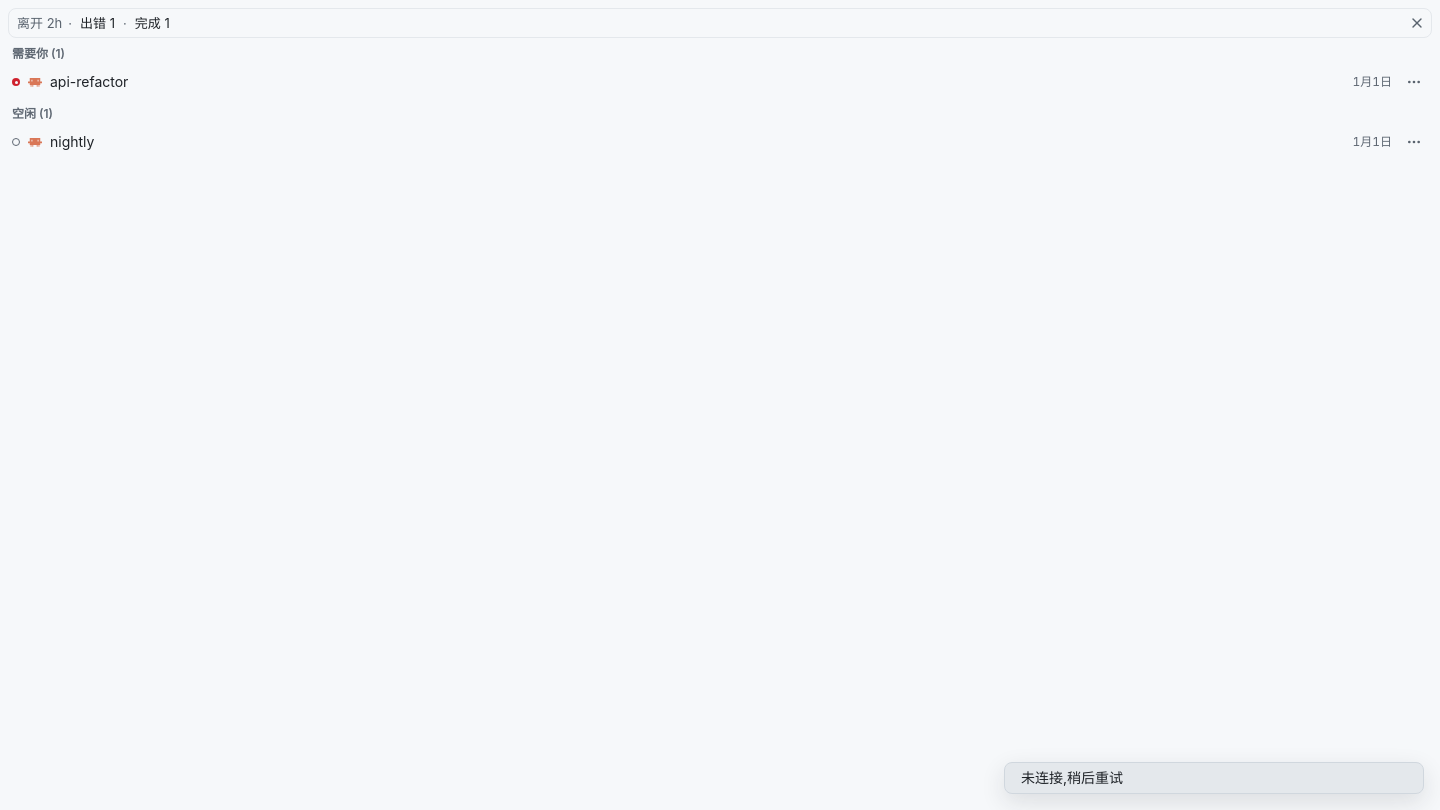
TriageList away card (F3) › shows above 需要你 after ≥30 min away with events; × hides it
This screenshot has width=1440, height=810.
Expected: the element named "离开期间" shows "出错 1", [78,9,117,37]
Expected: the element named "离开期间" shows "完成 1", [133,9,172,37]
Click the button named "关闭离开摘要". click: (1417, 23)
box: [1403,9,1431,37]
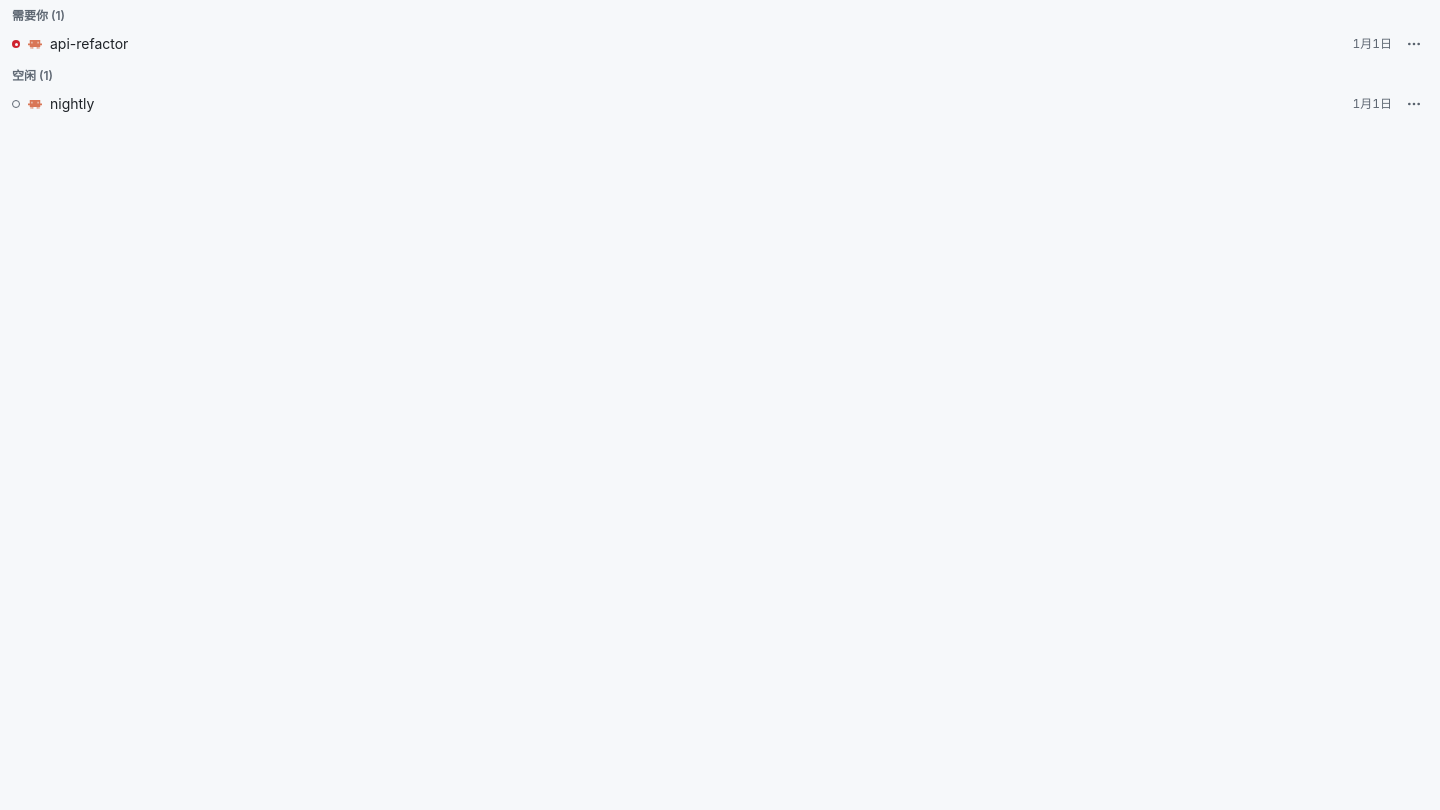
Expected: the element "离开期间" is gone
